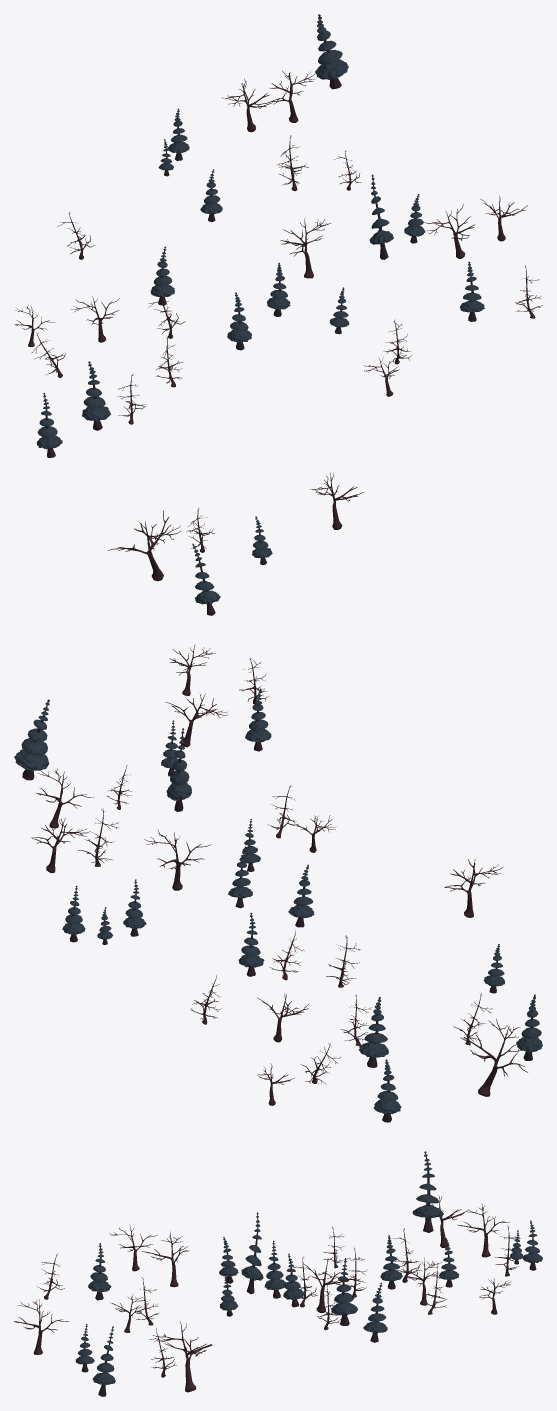
File: forest.glb
3 renders of one model, top to bottom at view 1: azimuth 30°, elevation 25°; view 2: azimuth 150°, elevation 25°; view 3: azimuth 270°, elevation 25°, orthographic. The views are drawn at different scales.
Parts seen in each view (by area): view 1: tree2.011, tree2.005, tree2.006, tree2, tree2.013, tree3.001; view 2: tree2.011, tree2, tree2.005, tree2.013, tree3.001, tree2.006, tree2.012, tree2.007, tree2.004, tree2.003, tree2.009, tree2.008 (+2 smaller); view 3: tree2.011, tree2.005, tree2, tree2.013, tree3.001, tree2.006, tree2.012, tree2.004, tree2.007, tree2.003, tree3.002, tree3 (+9 smaller).
Boxes of the visible parts, bbox=[...] form: tree2.011: bbox=[315, 14, 348, 89]; tree2.005: bbox=[82, 361, 110, 430]; tree2.006: bbox=[36, 393, 62, 457]; tree2: bbox=[369, 174, 393, 259]; tree2.013: bbox=[192, 543, 220, 615]; tree3.001: bbox=[108, 510, 180, 581]; tree2.011: bbox=[14, 699, 49, 780]; tree2: bbox=[166, 728, 191, 811]; tree2.005: bbox=[359, 997, 388, 1067]; tree2.013: bbox=[516, 994, 542, 1060]; tree3.001: bbox=[460, 1019, 527, 1096]; tree2.006: bbox=[373, 1059, 401, 1122]; tree2.012: bbox=[245, 688, 271, 751]; tree2.007: bbox=[238, 912, 264, 976]; tree2.004: bbox=[288, 864, 314, 927]; tree2.003: bbox=[228, 846, 252, 908]; tree2.009: bbox=[62, 885, 85, 942]; tree2.008: bbox=[123, 879, 146, 936]; tree2.011: bbox=[412, 1151, 443, 1232]; tree2.005: bbox=[331, 1258, 357, 1325]; tree2: bbox=[241, 1212, 263, 1294]; tree2.013: bbox=[92, 1326, 115, 1396]; tree3.001: bbox=[152, 1321, 212, 1392]; tree2.006: bbox=[363, 1282, 387, 1342]; tree2.012: bbox=[88, 1243, 111, 1300]; tree2.004: bbox=[264, 1240, 286, 1298]; tree2.007: bbox=[380, 1235, 402, 1289]; tree2.003: bbox=[283, 1253, 304, 1307]; tree3.002: bbox=[14, 1299, 69, 1354]; tree3: bbox=[303, 1258, 356, 1312].
Bounding box in the file's own units: 80.22 × 81.47 × 105.
1 material, 1 textured.
